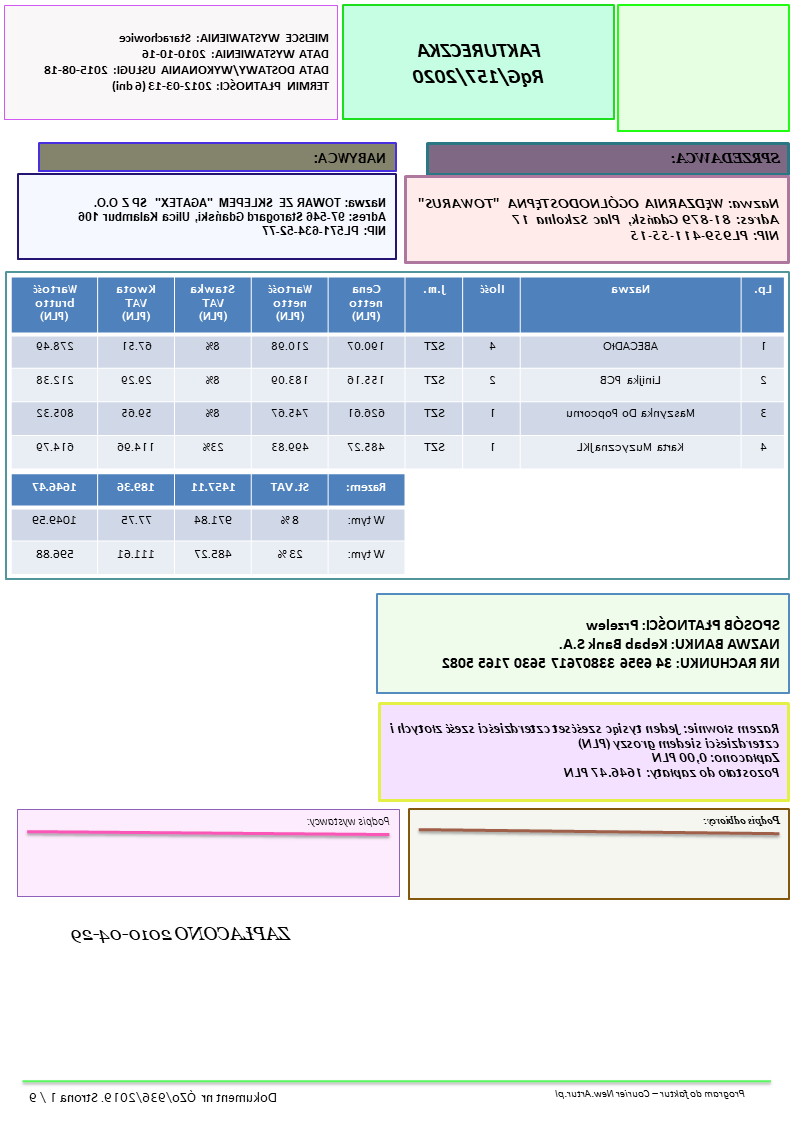Table: (11, 275, 786, 469), (10, 473, 407, 574)
TextBox: (387, 720, 783, 781), (439, 615, 784, 673), (42, 31, 332, 93), (417, 195, 783, 243), (77, 195, 389, 237), (411, 40, 547, 91), (69, 923, 293, 947), (28, 1090, 279, 1106), (553, 1086, 749, 1102), (670, 150, 784, 166), (312, 149, 389, 168), (306, 814, 392, 829), (701, 812, 783, 827)
